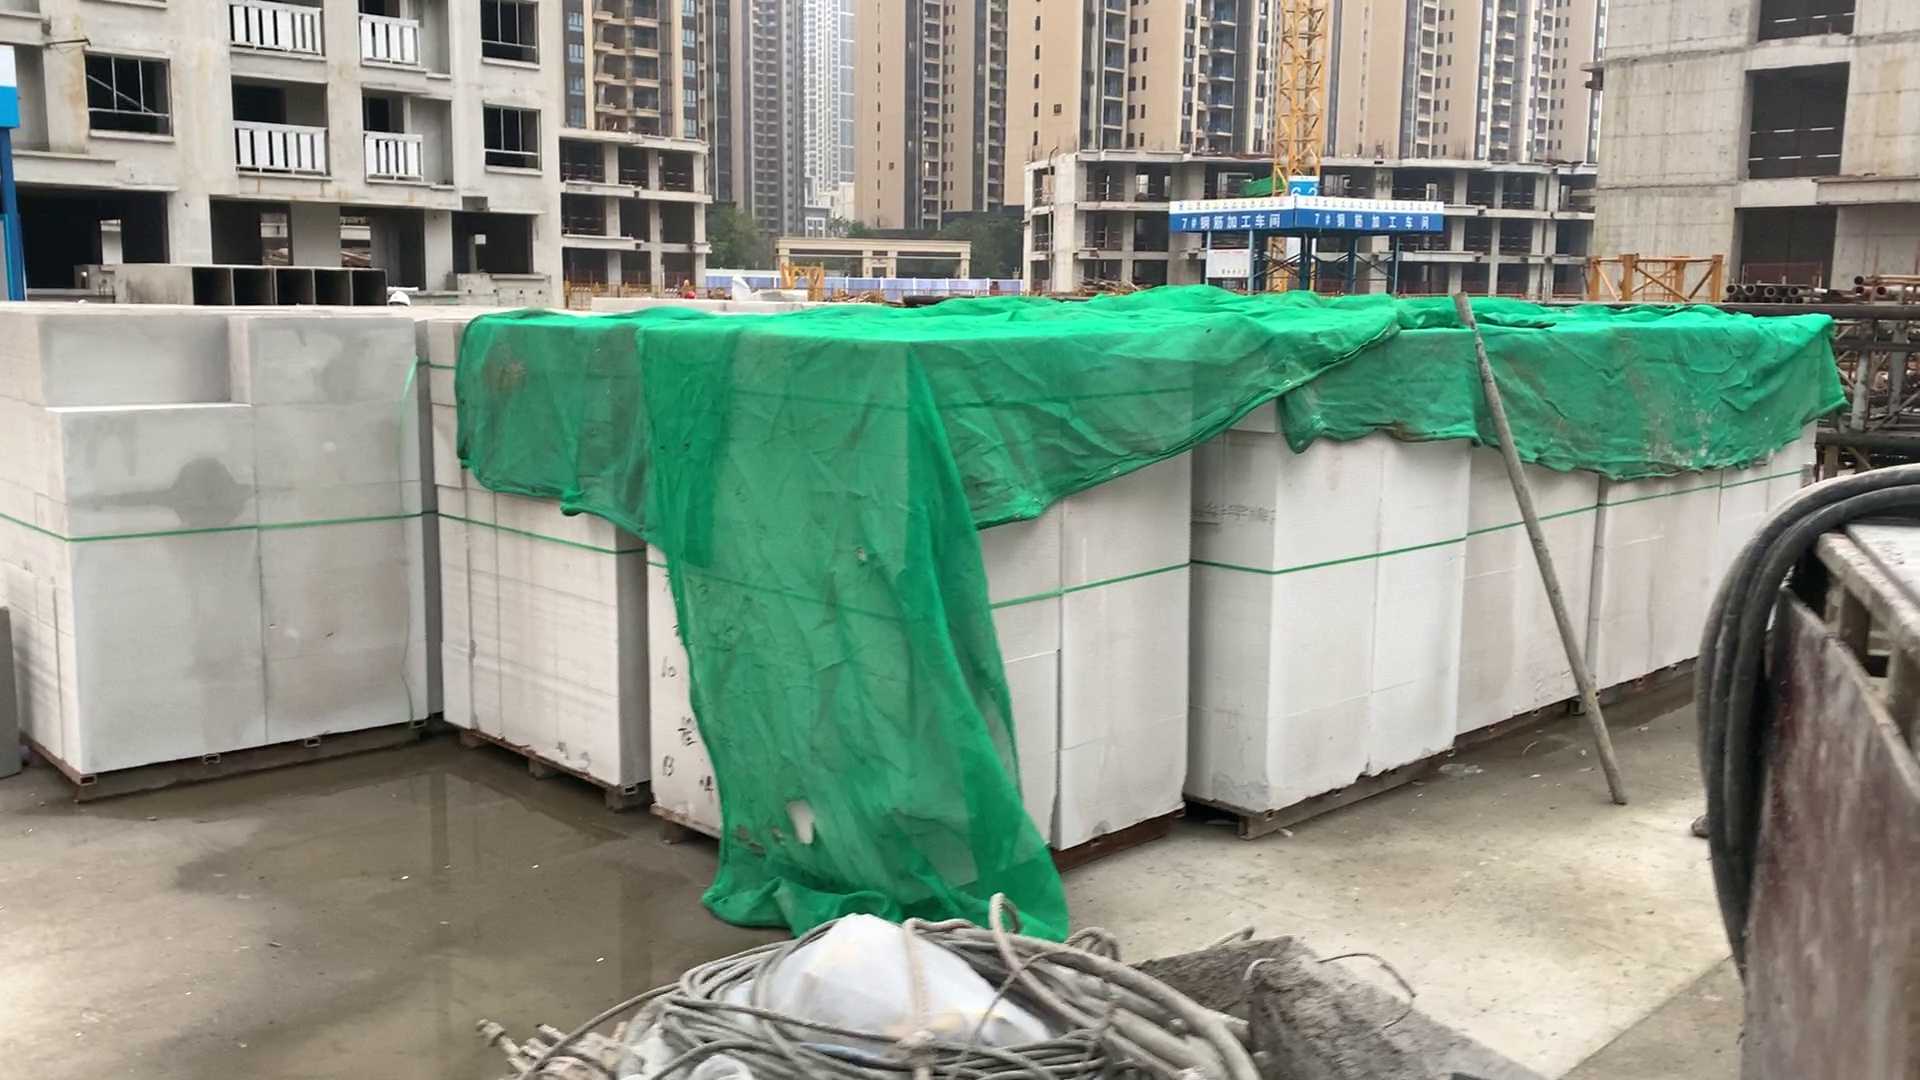brickwork: (29, 309, 429, 770), (644, 327, 924, 907), (422, 313, 633, 802), (1604, 324, 1816, 692), (1456, 334, 1596, 745), (1191, 328, 1288, 829)
